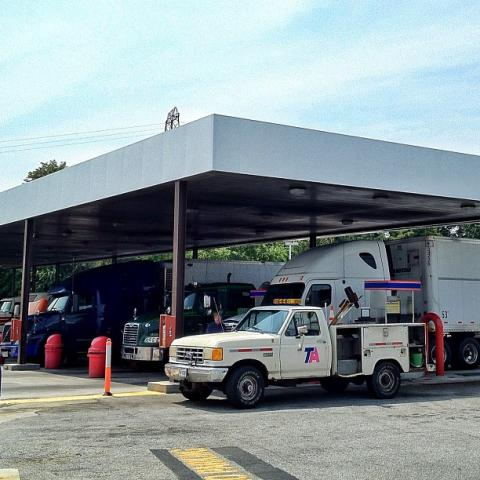car: (0, 297, 21, 332)
truck: (163, 277, 427, 407), (258, 235, 479, 365), (26, 260, 159, 365), (119, 279, 254, 357), (124, 259, 284, 322)
